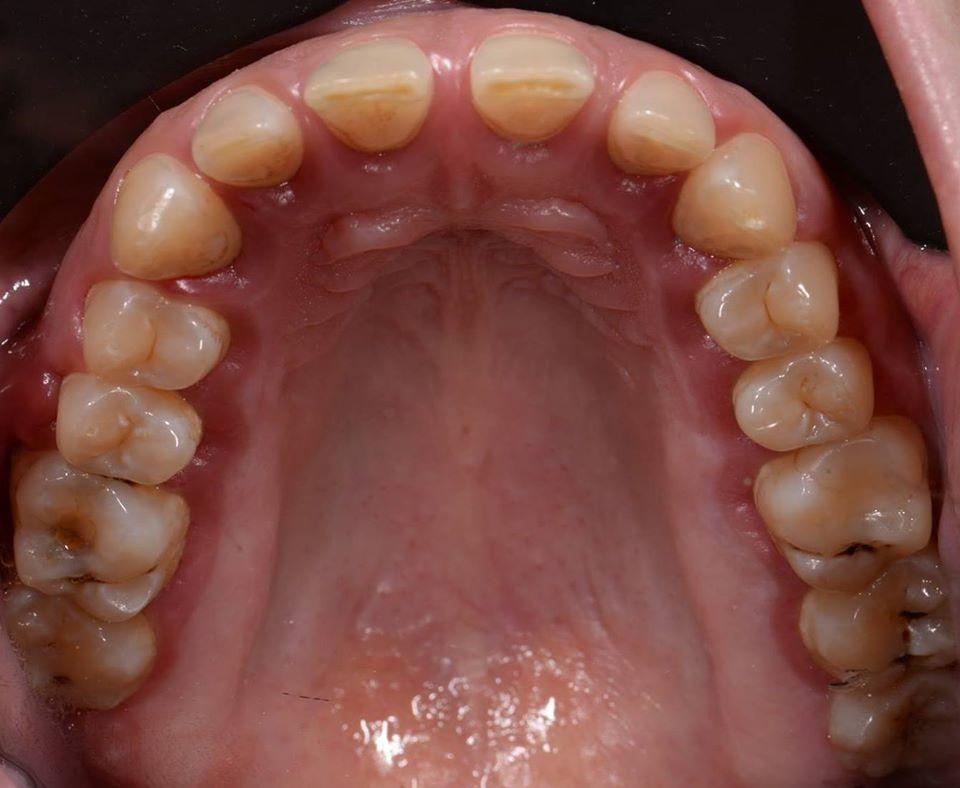UL1BC_healthy: (698, 262, 839, 362)
UL1M_decay: (770, 438, 929, 570)
UL2BC_healthy: (735, 353, 876, 443)
UL2M_decay: (809, 573, 956, 669)
UL3M_decay: (850, 682, 960, 773)
ULCI_healthy: (467, 30, 593, 141)
ULC_healthy: (683, 140, 799, 258)
ULLI_healthy: (605, 72, 716, 172)
UR1BC_healthy: (77, 292, 229, 382)
UR1M_decay: (17, 460, 185, 619)
UR2BC_healthy: (55, 375, 201, 485)
UR2M_decay: (13, 598, 162, 706)
URCI_healthy: (300, 46, 447, 158)
URC_healthy: (109, 163, 244, 275)
URLI_healthy: (199, 90, 298, 184)
